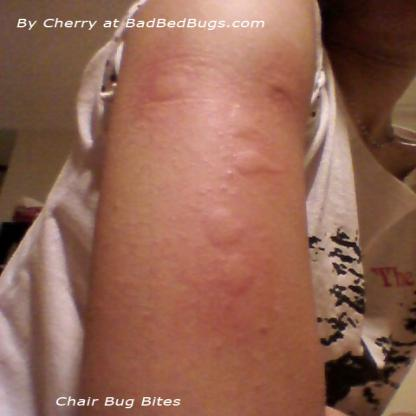Bed Bug: (191, 206, 253, 250), (221, 147, 298, 181), (212, 253, 263, 298), (143, 69, 194, 102), (219, 102, 263, 140), (260, 72, 294, 97)
